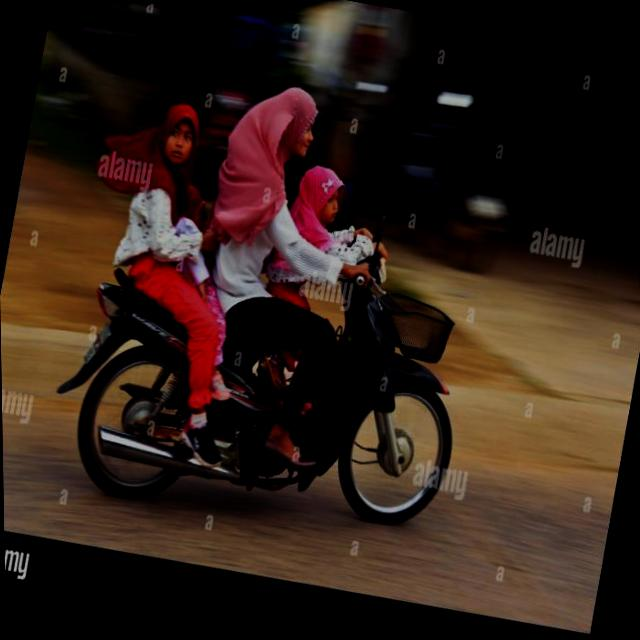motorcycle: (51, 230, 468, 533)
person: (100, 86, 222, 408), (229, 78, 342, 405), (290, 164, 374, 402)
rider_region: (67, 80, 456, 532)
